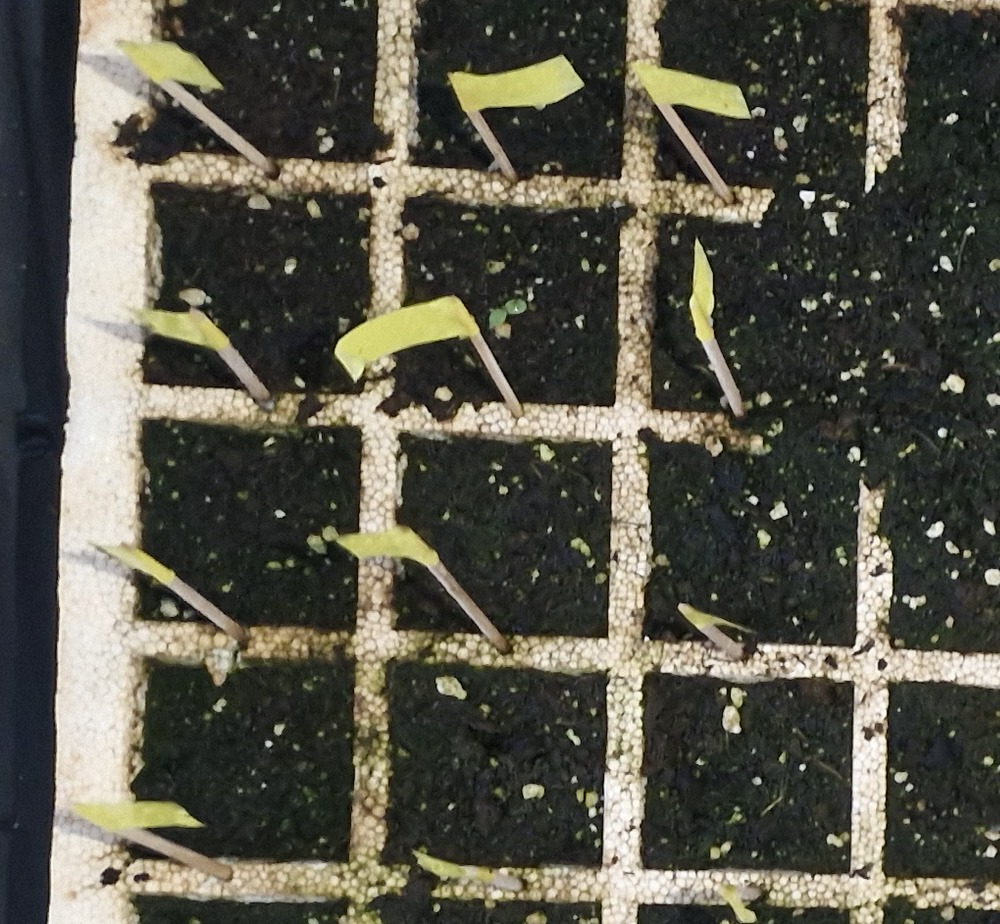Folha: (505, 299, 527, 313), (489, 309, 507, 325)
Germinacao: (490, 299, 527, 325)
